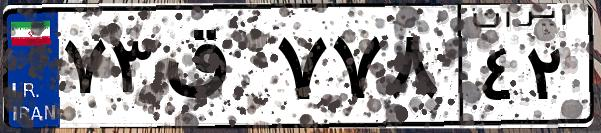2: (525, 38, 570, 115)
3: (110, 28, 158, 98)
4: (475, 38, 525, 113)
7: (270, 28, 330, 110), (330, 28, 385, 110), (57, 26, 110, 100)
8: (385, 28, 445, 110)
ق: (158, 20, 270, 120)
